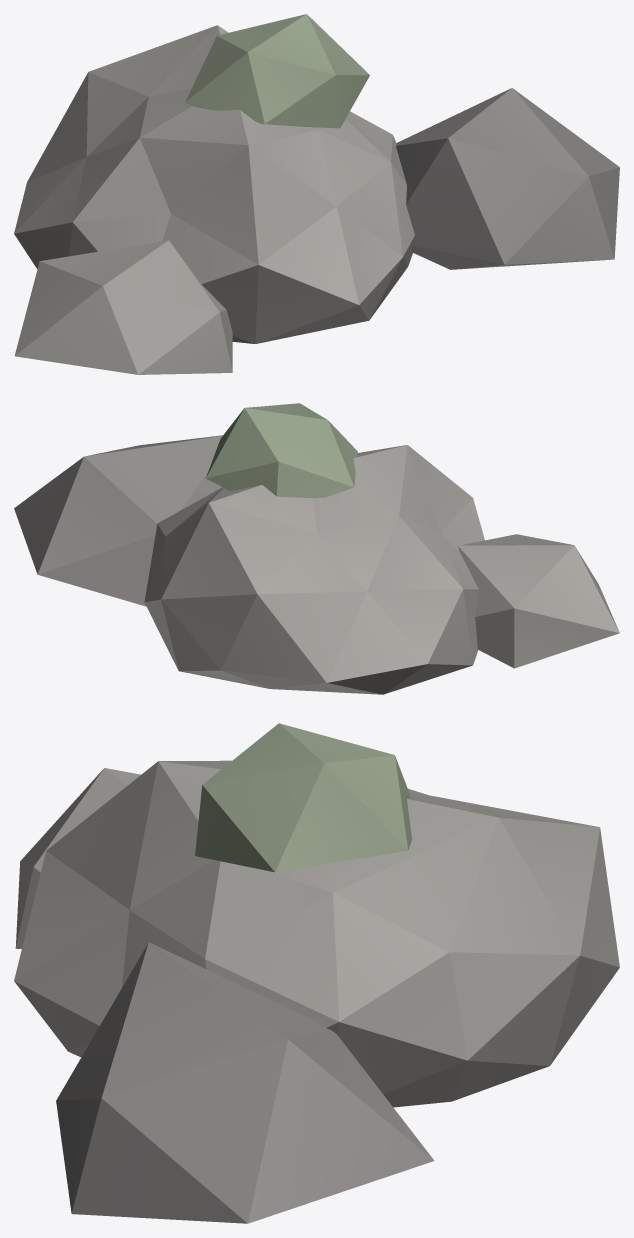
3 views of the same model, one above another, from view 1: azimuth 30°, elevation 25°; view 2: azimuth 150°, elevation 25°; view 3: azimuth 270°, elevation 25° (orthographic). The views are drawn at different scales.
Visible parts, largest first — view 1: nature.boulder_pile; view 2: nature.boulder_pile; view 3: nature.boulder_pile.
Part boxes in pixels (x1=…): nature.boulder_pile: x1=14, y1=14, x2=619, y2=374; nature.boulder_pile: x1=14, y1=403, x2=619, y2=694; nature.boulder_pile: x1=14, y1=723, x2=619, y2=1223.
Bounding box in the file's own units: 7.85 × 2.69 × 4.77.
